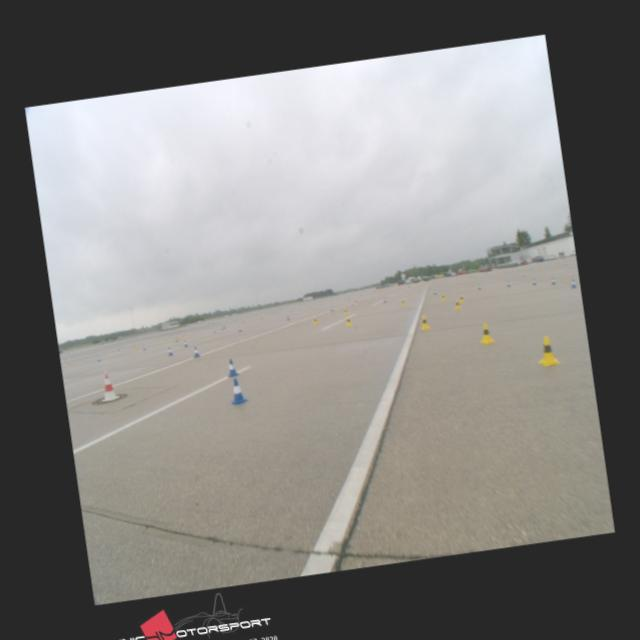blue_cone: (228, 378, 248, 404), (226, 358, 239, 376), (192, 346, 200, 358), (570, 278, 577, 288), (168, 346, 174, 356), (532, 278, 537, 286), (551, 278, 556, 284), (184, 340, 188, 347), (506, 280, 510, 286), (478, 284, 482, 290), (433, 290, 438, 294)
yellow_cone: (534, 334, 559, 366), (478, 322, 493, 344), (419, 314, 430, 329), (454, 298, 462, 309), (345, 316, 352, 326), (312, 316, 318, 324), (459, 294, 465, 302), (441, 293, 446, 300), (343, 308, 348, 314), (401, 299, 405, 306)
